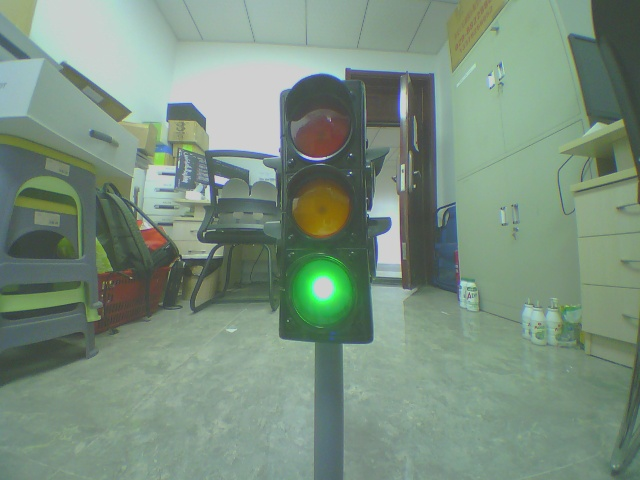Green: (266, 79, 381, 377)
